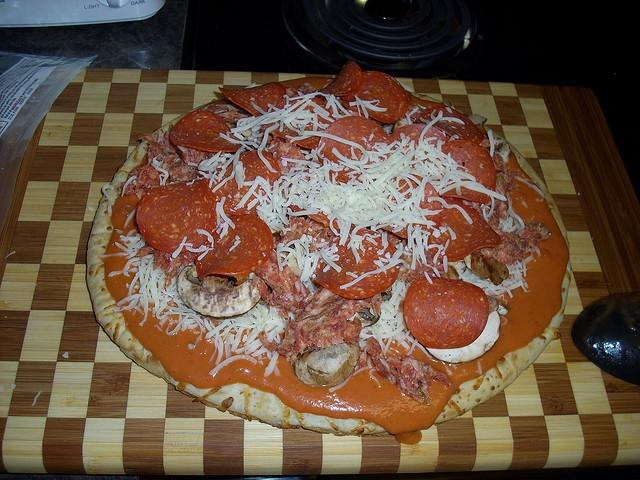mushroom: (178, 266, 262, 320), (293, 342, 360, 388), (472, 251, 508, 286)
